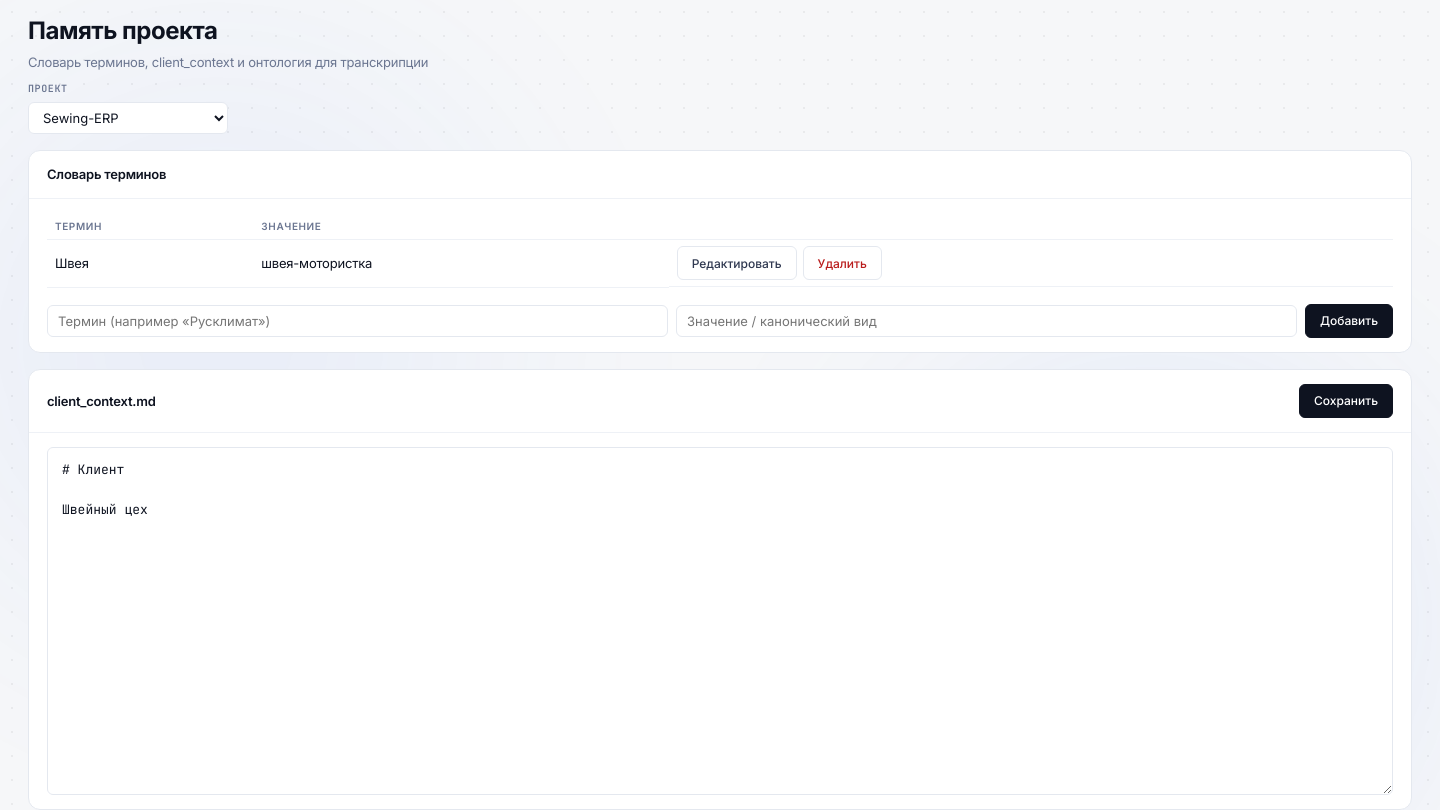
Test: ProjectMemoryView — dictionary › edits an existing term in place
Expected: the text "Швея" is shown, [47,240,253,288]
Click the button "Редактировать": (737, 264) [677,246,797,280]
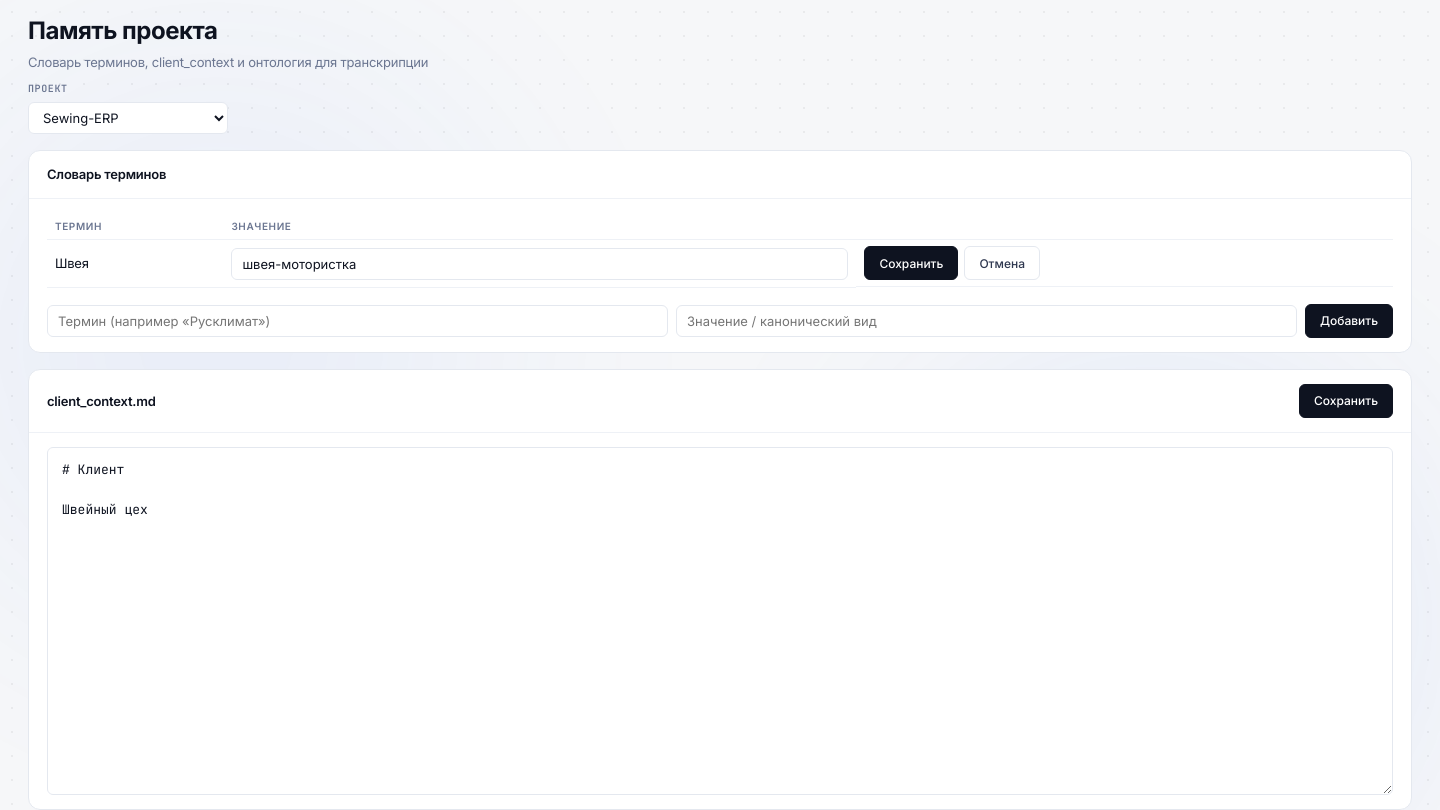
Replace the text in the field named "Значение для Швея" with "швея (обновлено)": (540, 264) [231,248,848,280]
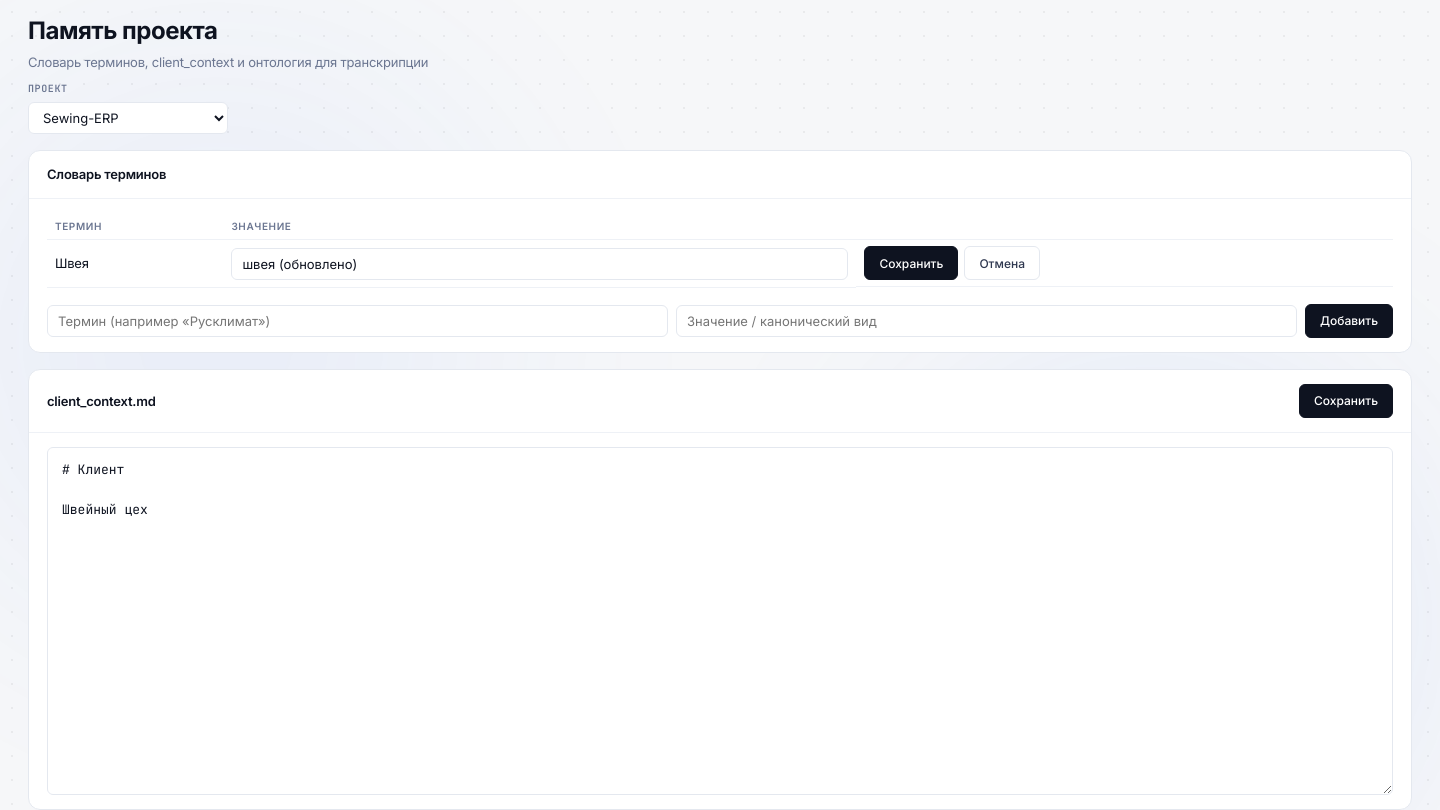
Click the button "Сохранить" in the row of "Швея": (911, 264) [864,246,958,280]
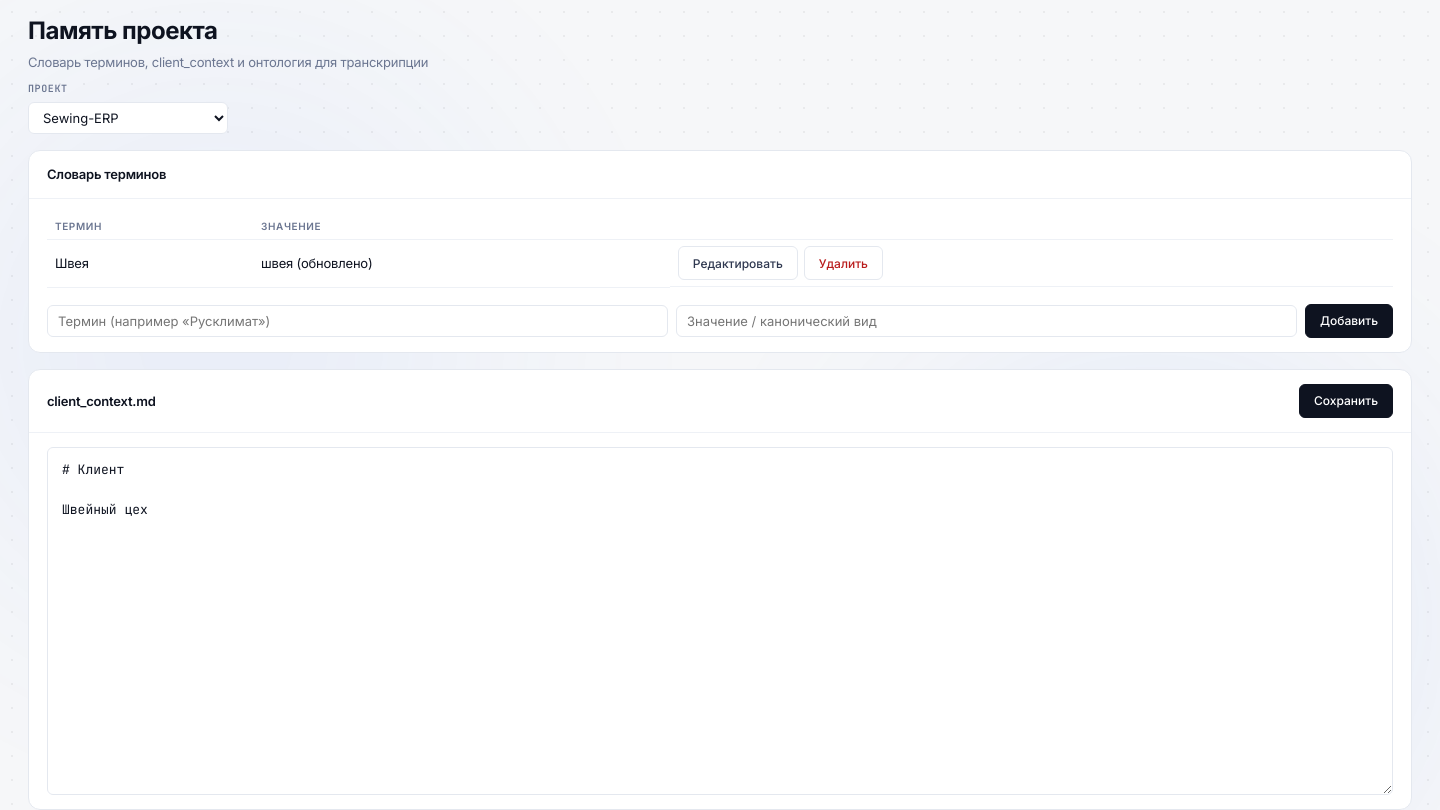
Expected: the text "швея (обновлено)" is shown, [253,240,670,288]
